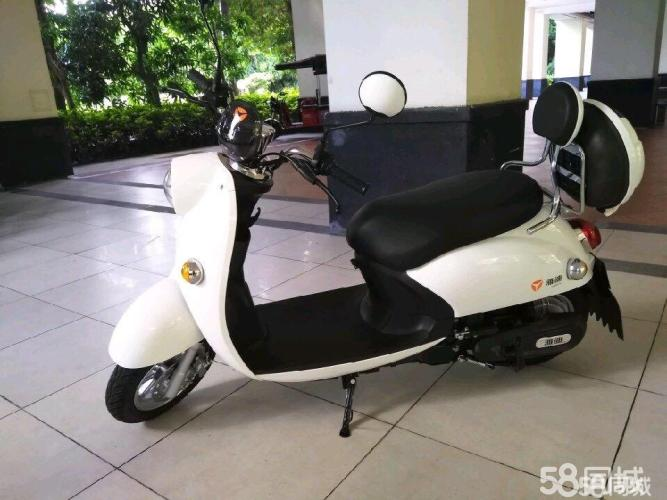电动车: (100, 59, 650, 432)
